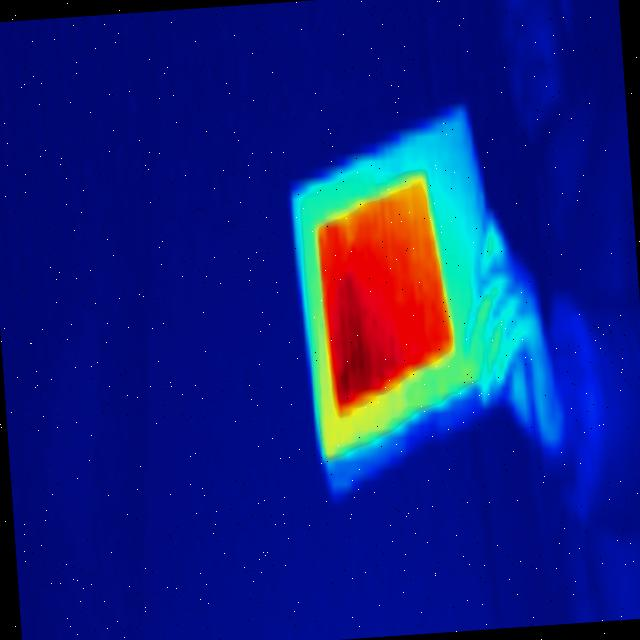rectangle: (264, 81, 542, 524)
